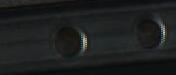joints: (129, 11, 168, 51), (50, 21, 88, 60)
